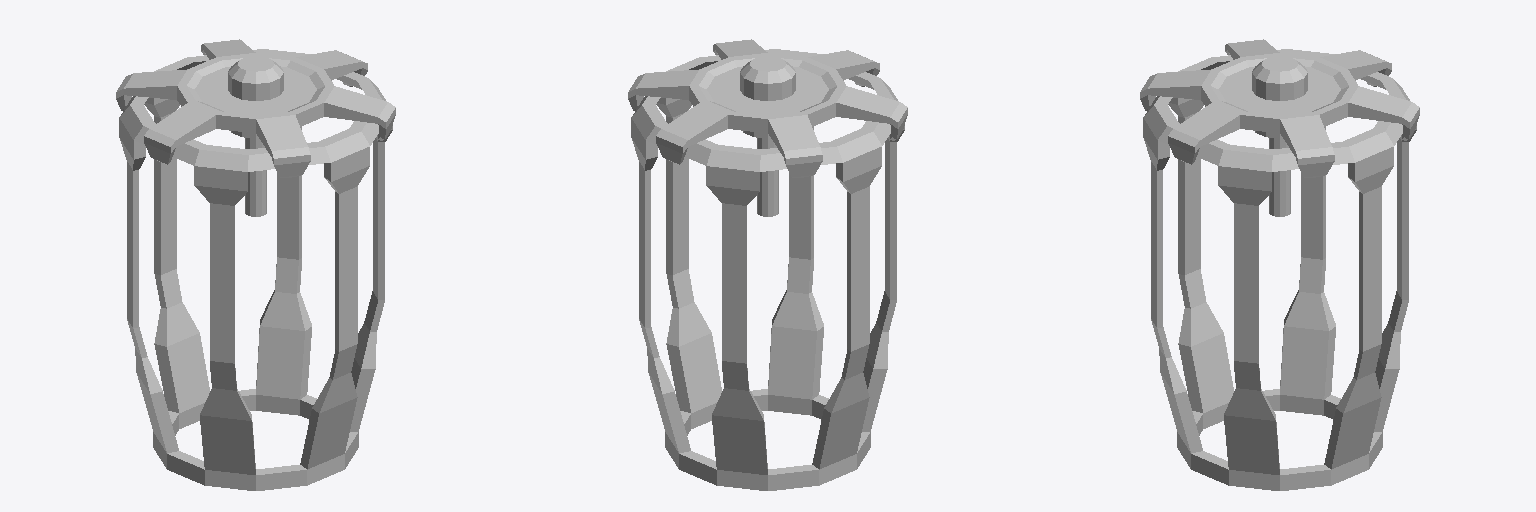
The model's file is mine.obj.
The picture shows the model from 3 angles: view 1: azimuth 30°, elevation 25°; view 2: azimuth 150°, elevation 25°; view 3: azimuth 270°, elevation 25°; orthographic projection.
Parts seen in each view (by area): view 1: Cylinder; view 2: Cylinder; view 3: Cylinder.
Boxes of the visible parts, x1,y1,x2,y2 form: Cylinder: [116, 39, 395, 490]; Cylinder: [628, 39, 907, 490]; Cylinder: [1140, 39, 1419, 490].
Bounding box in the file's own units: 2.98 × 4.51 × 2.98.